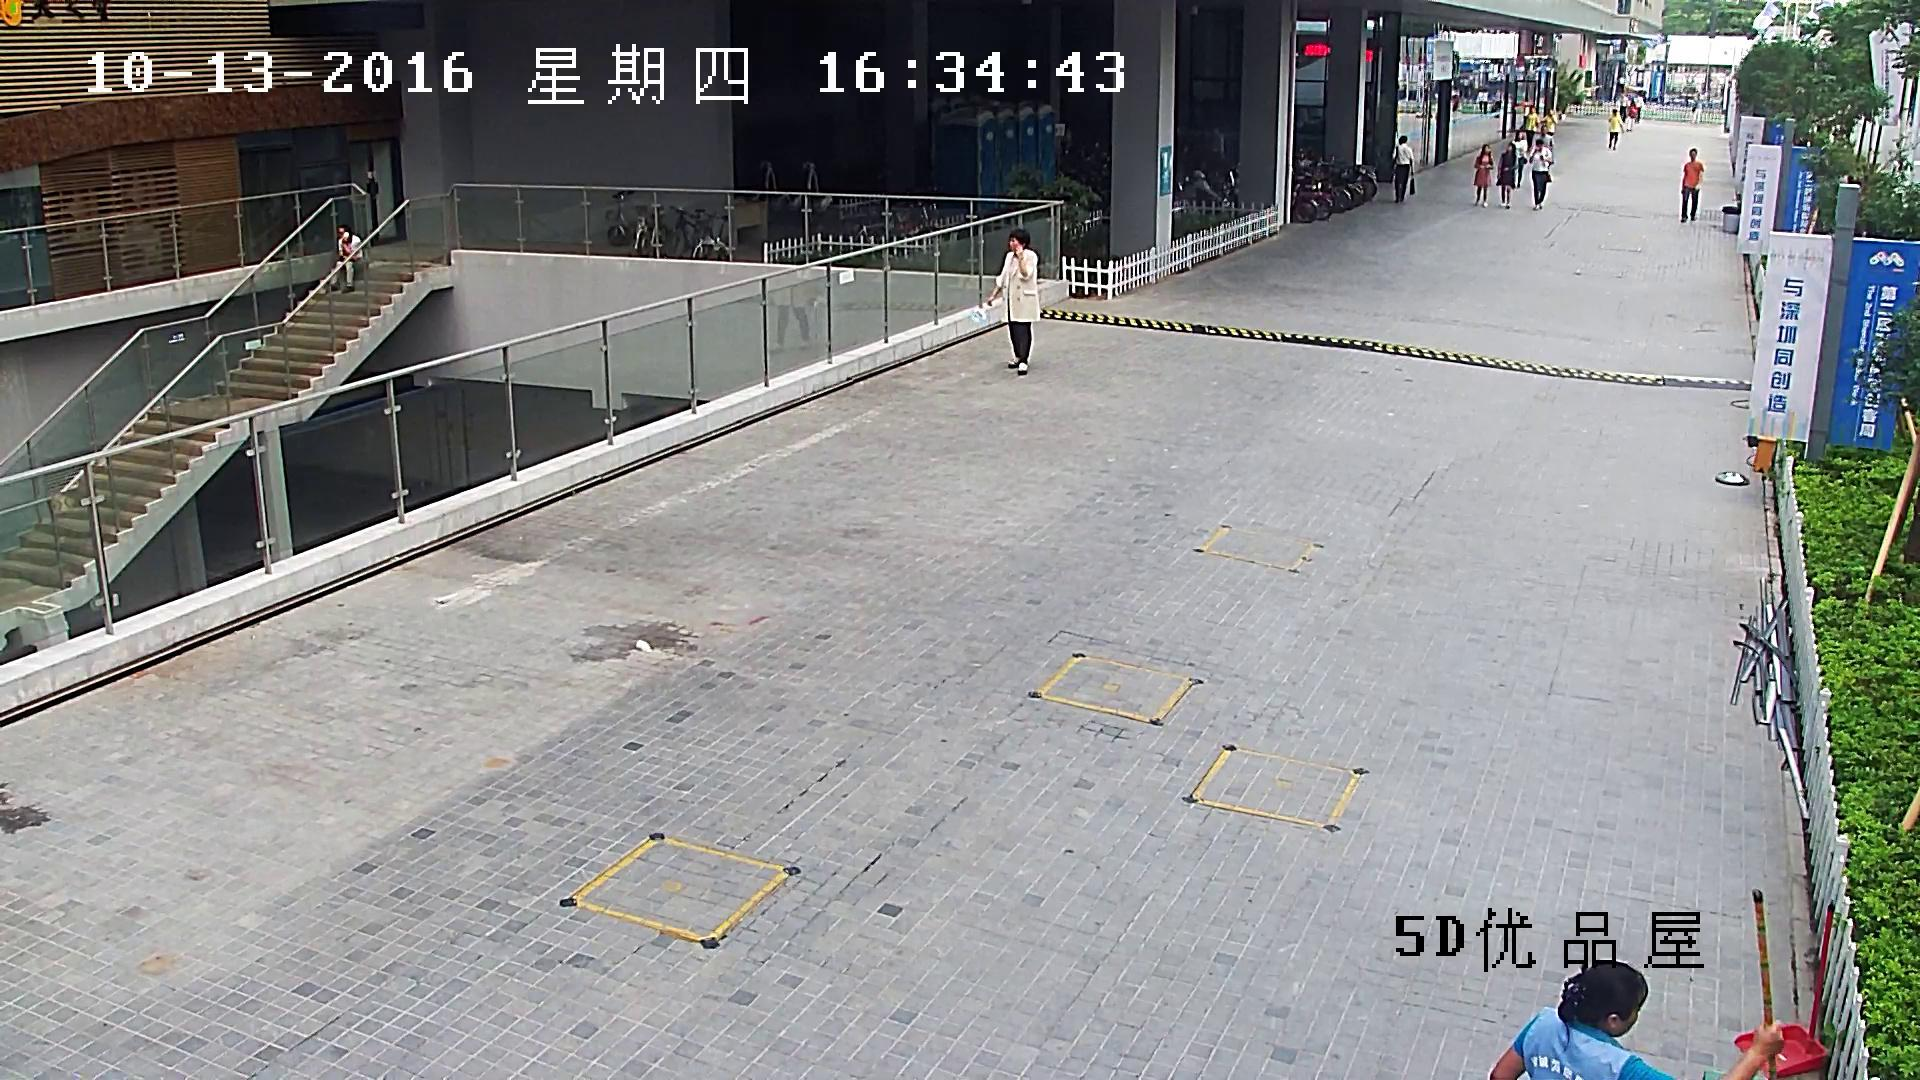person: (1489, 887, 1790, 1080), (1490, 961, 1786, 1080), (988, 229, 1037, 375), (766, 281, 817, 349), (328, 226, 361, 294), (1680, 148, 1704, 222), (1391, 135, 1415, 203), (1528, 139, 1551, 209), (1495, 142, 1518, 208), (1473, 144, 1494, 208), (1511, 133, 1527, 187), (1607, 108, 1624, 150), (1525, 106, 1538, 147), (1540, 109, 1556, 136), (1537, 125, 1553, 148), (1691, 93, 1701, 125), (1626, 104, 1637, 132), (1619, 96, 1628, 122), (1635, 96, 1643, 123), (1477, 89, 1483, 110), (1483, 88, 1489, 113)
